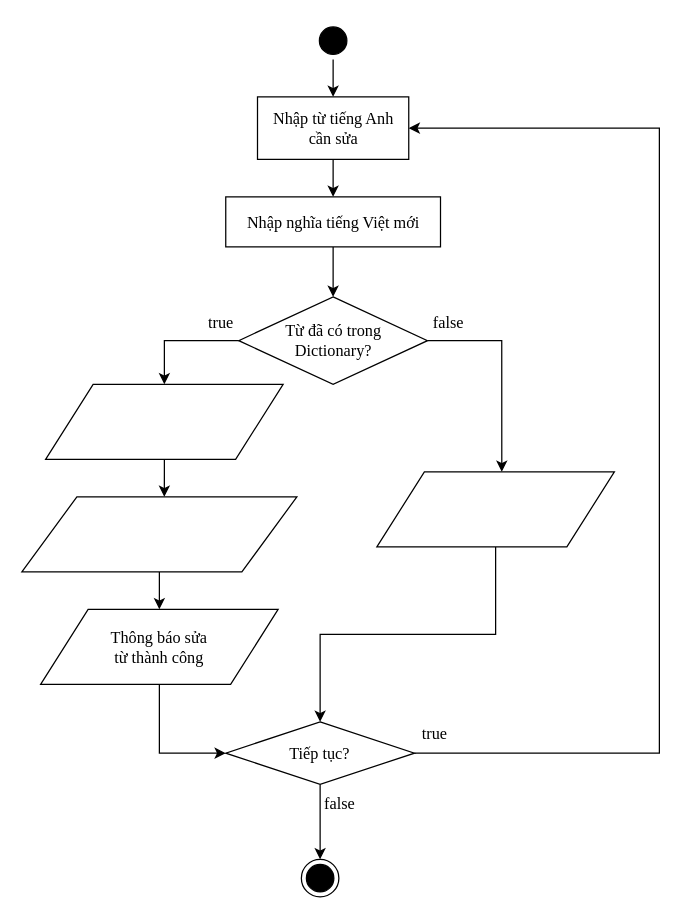
This 691x919 diagram has some shape labels left out. Here are the shapes that lost their labels. From the top down, the box of each, then its label:
(44, 383, 283, 459): Xoá từ cần sửa khỏi Dictionary
(376, 471, 614, 547): Thông báo sửa không thành công
(21, 496, 297, 572): Thêm lại từ cần sửa với nghĩa tiếng Việt mới
